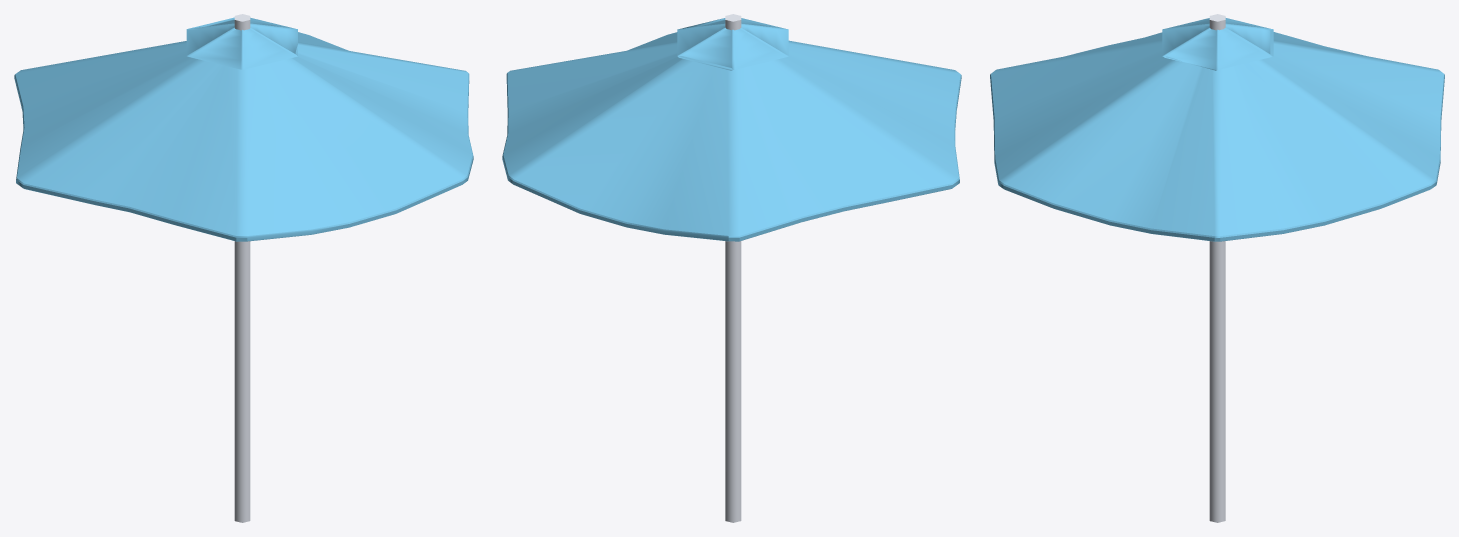
File: umbrella.fbx
3 views of the same model, side by side, from view 1: azimuth 30°, elevation 25°; view 2: azimuth 150°, elevation 25°; view 3: azimuth 270°, elevation 25° (orthographic).
Parts seen in each view (by area): view 1: polySurface35; view 2: polySurface35; view 3: polySurface35.
Boxes of the visible parts, x1,y1,x2,y2 form: polySurface35: [14, 14, 473, 522]; polySurface35: [502, 14, 961, 522]; polySurface35: [990, 14, 1444, 522].
Bounding box in the file's own units: 162 × 173 × 142.
